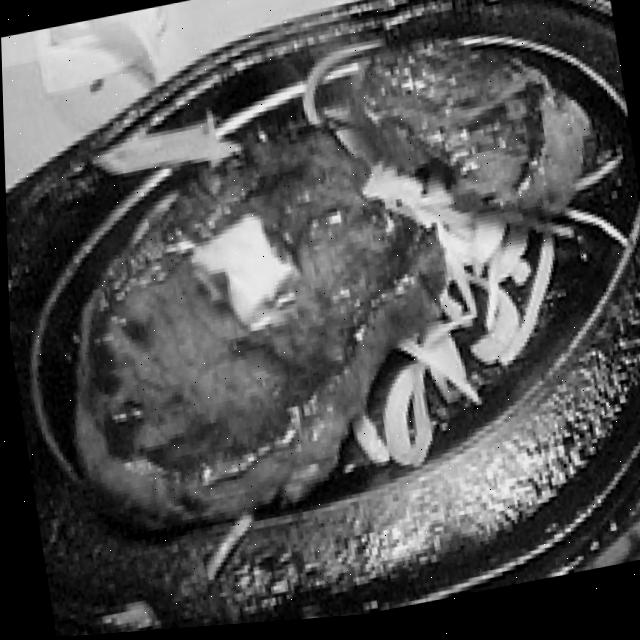牛肉菜式: (21, 46, 628, 558)
